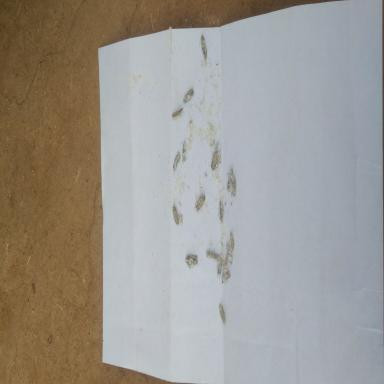pbw: (182, 87, 195, 101), (210, 148, 218, 170), (185, 254, 198, 267), (218, 303, 226, 324), (195, 196, 206, 210), (172, 151, 180, 170), (172, 204, 179, 224), (206, 250, 219, 260), (226, 244, 232, 264), (219, 200, 224, 222), (229, 231, 235, 249), (227, 168, 232, 189), (182, 140, 187, 161), (171, 108, 184, 116), (218, 255, 222, 276), (222, 272, 231, 281), (232, 176, 236, 196), (224, 257, 228, 274)
